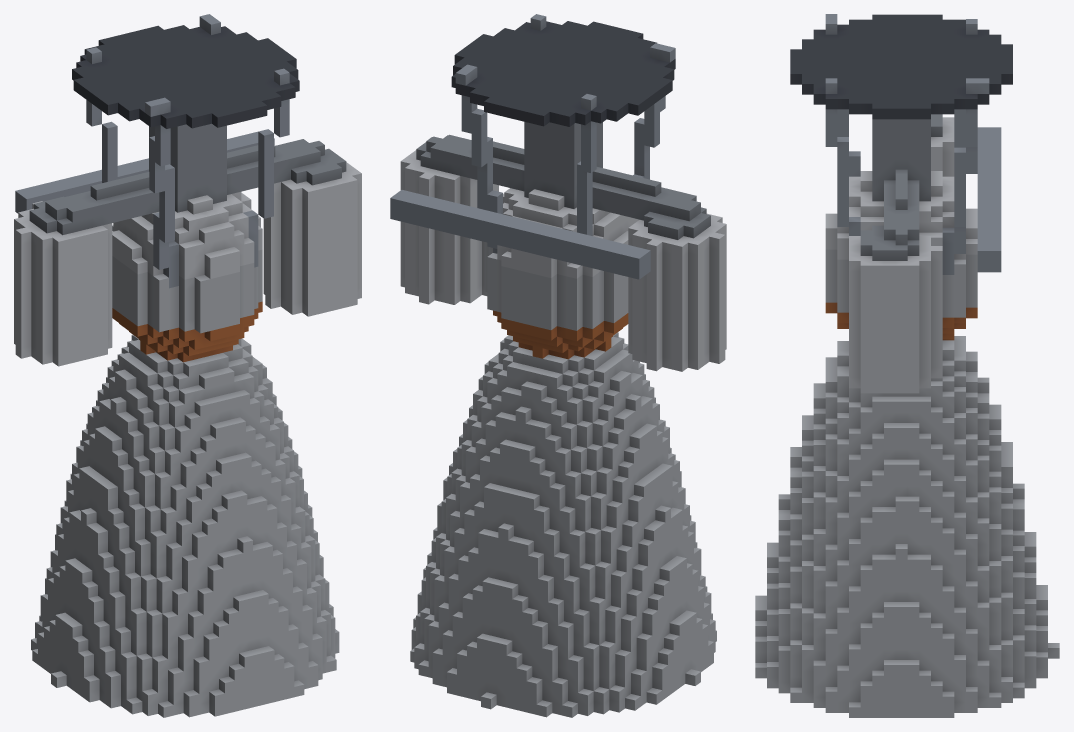
Rendered from eng_metano_r.glb.
The picture shows the model from 3 angles, left to right: view 1: azimuth 30°, elevation 25°; view 2: azimuth 150°, elevation 25°; view 3: azimuth 270°, elevation 25°; orthographic projection. The views are drawn at different scales.
Visible parts, largest first — view 1: eng_metano_r; view 2: eng_metano_r; view 3: eng_metano_r.
Boxes of the visible parts, x1,y1,x2,y2 form: eng_metano_r: (14, 14, 361, 717); eng_metano_r: (390, 14, 726, 717); eng_metano_r: (755, 14, 1059, 717).
Size of the model in its own units: 1.6 by 2.85 by 1.3.
